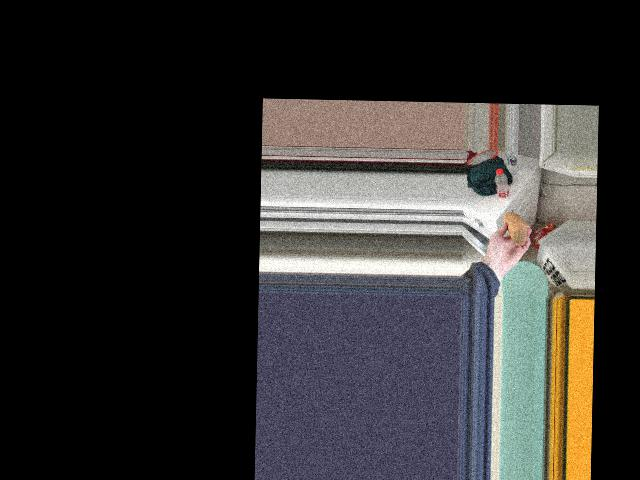sweet_potato: (504, 212, 527, 241)
